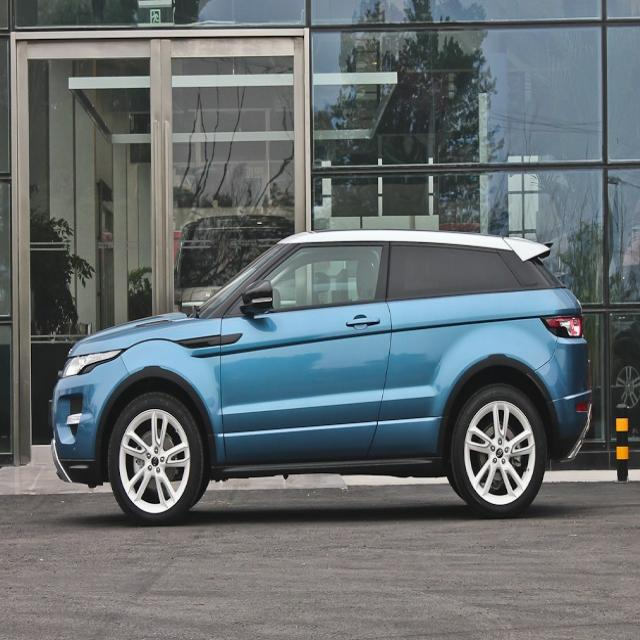back_left_side_light: (539, 310, 584, 338)
front_bumper: (49, 354, 131, 484)
front_left_side_door: (218, 237, 392, 468)
front_left_side_light: (61, 347, 125, 379)
front_left_side_mirror: (240, 277, 274, 315)
rear_bumper: (528, 334, 594, 463)
wheel: (108, 392, 204, 524), (452, 384, 546, 518)
